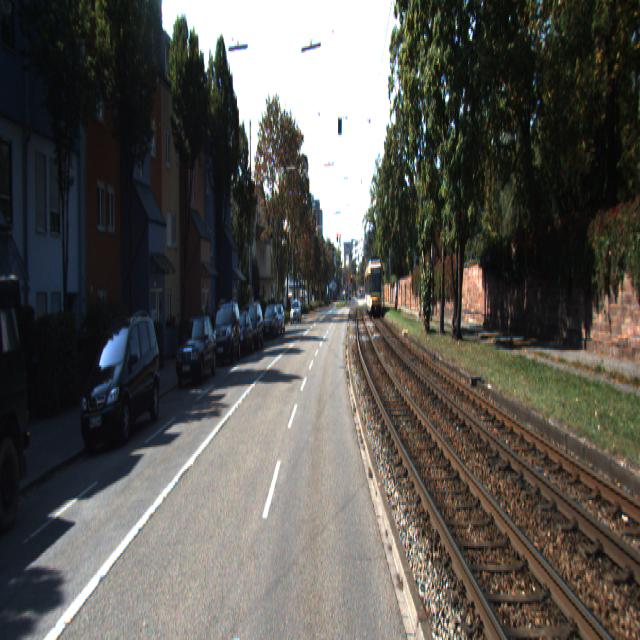Car: (79, 313, 163, 457), (0, 272, 39, 549), (174, 312, 218, 388), (211, 298, 242, 369), (241, 301, 264, 354), (364, 260, 383, 318), (231, 311, 253, 360)
